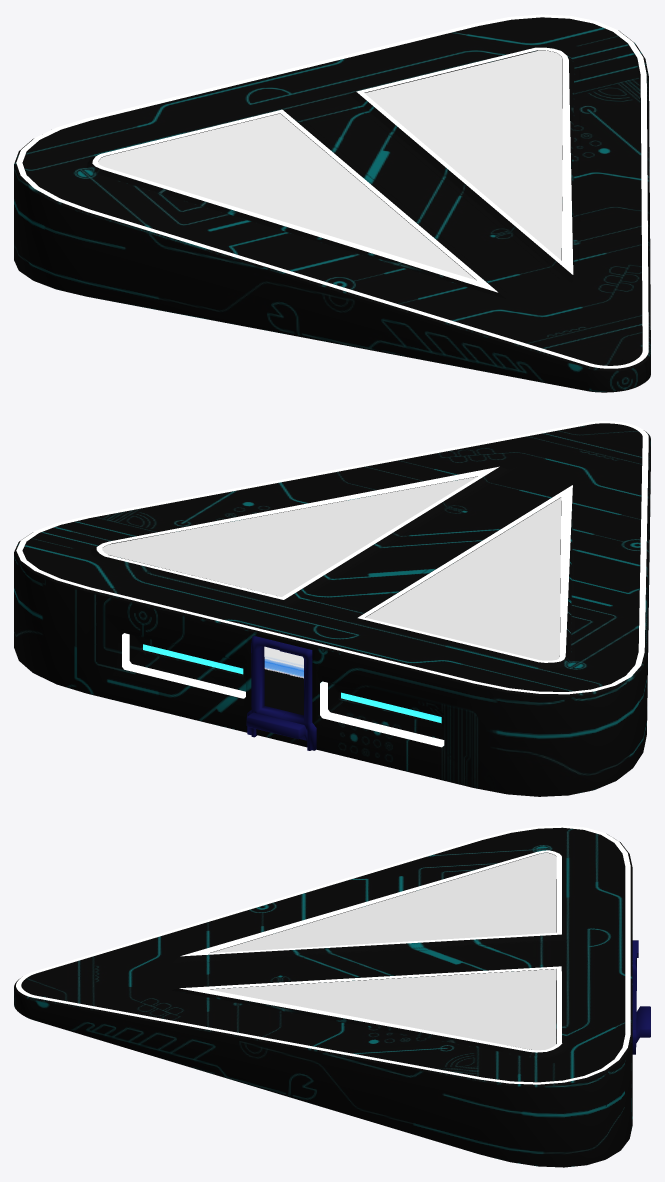
Rendered from spaceship_07_03_2022_3-477949.glb.
3 renders of one model, top to bottom at view 1: azimuth 30°, elevation 25°; view 2: azimuth 150°, elevation 25°; view 3: azimuth 270°, elevation 25°, orthographic. The views are drawn at different scales.
Parts seen in each view (by area): view 1: Cube, Cube.005; view 2: Cube, Cube.005, Plane, Cube.002, Cube.003, Cube.008; view 3: Cube, Cube.005, Cube.002.
Boxes of the visible parts, x1,y1,x2,y2 form: Cube: (14, 14, 650, 392); Cube.005: (98, 50, 562, 279); Cube: (14, 421, 650, 796); Cube.005: (102, 476, 561, 660); Plane: (264, 646, 303, 715); Cube.002: (247, 635, 287, 737); Cube.003: (279, 643, 316, 750); Cube.008: (246, 712, 307, 740); Cube: (14, 825, 632, 1167); Cube.005: (208, 853, 556, 1050); Cube.002: (632, 953, 636, 1054).
Bounding box in the file's own units: 0.7609 × 0.1266 × 0.7881.
Materials: 12 (2 with a texture image).
